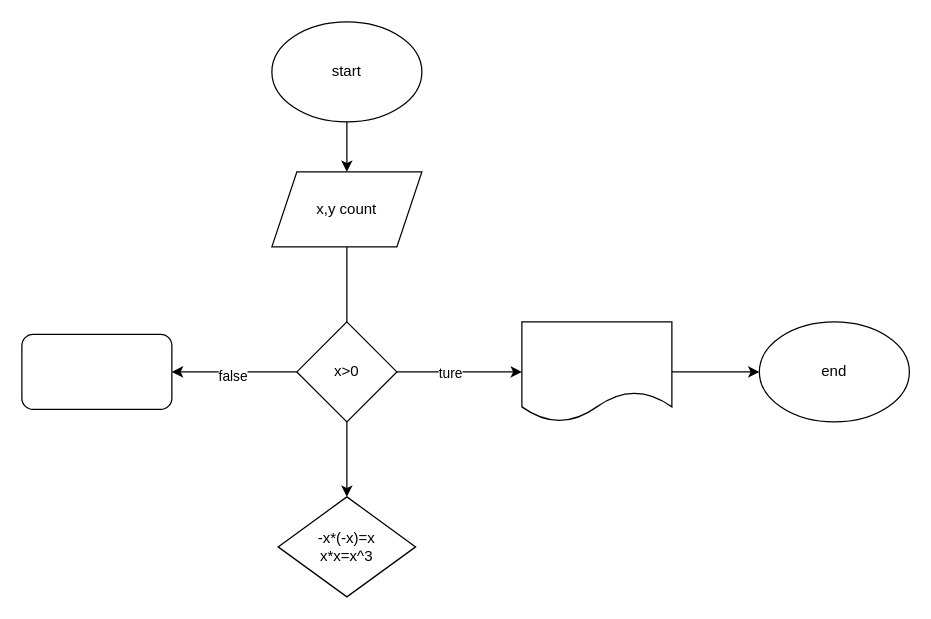
Image size: 931x619. Some labels were removed from this diagram. The shapes that lost their labels are listed below. From the top down, each one's centre as x and y in pixels, then its label:
At [96,371]: "serti odemir".
At [596,371]: "duzgun eded daxil edin".
